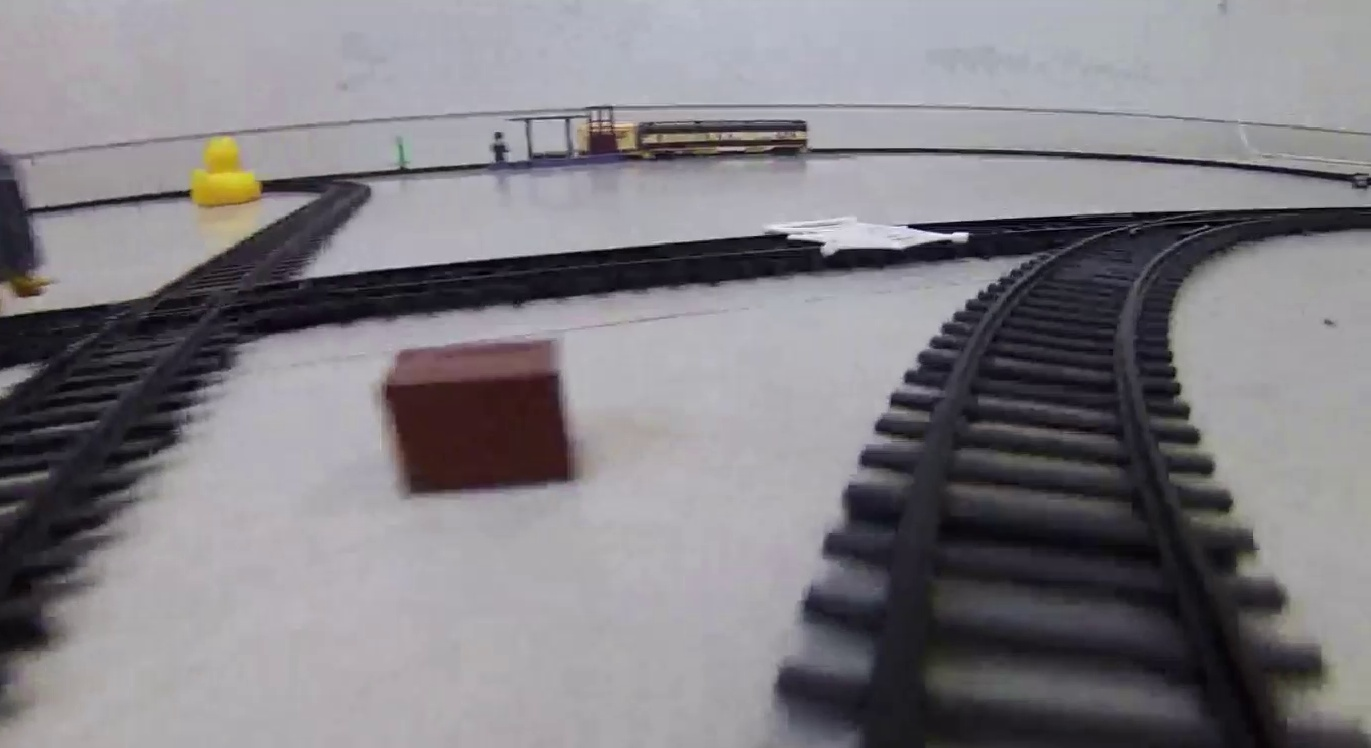box: (378, 337, 578, 491)
web: (764, 216, 972, 249)
